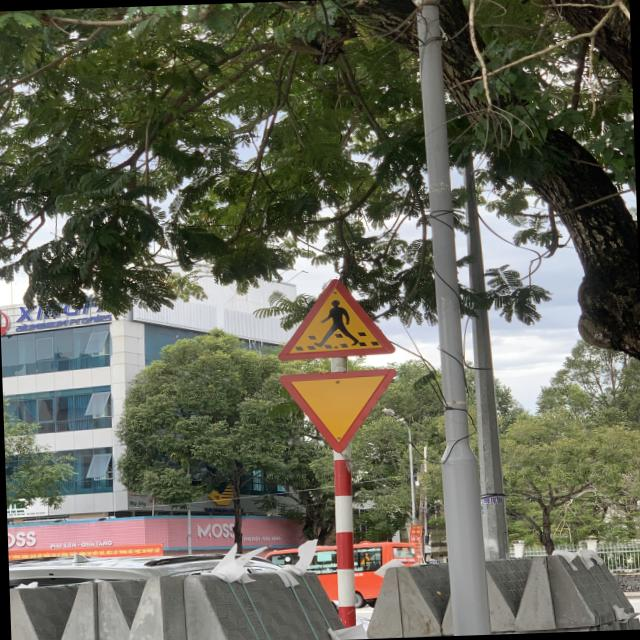Duong_Nguoi_Di_Bo_Sang_Ngang: (276, 276, 392, 360)
Gioi_Han_Toc_Do_25: (279, 366, 396, 453)
